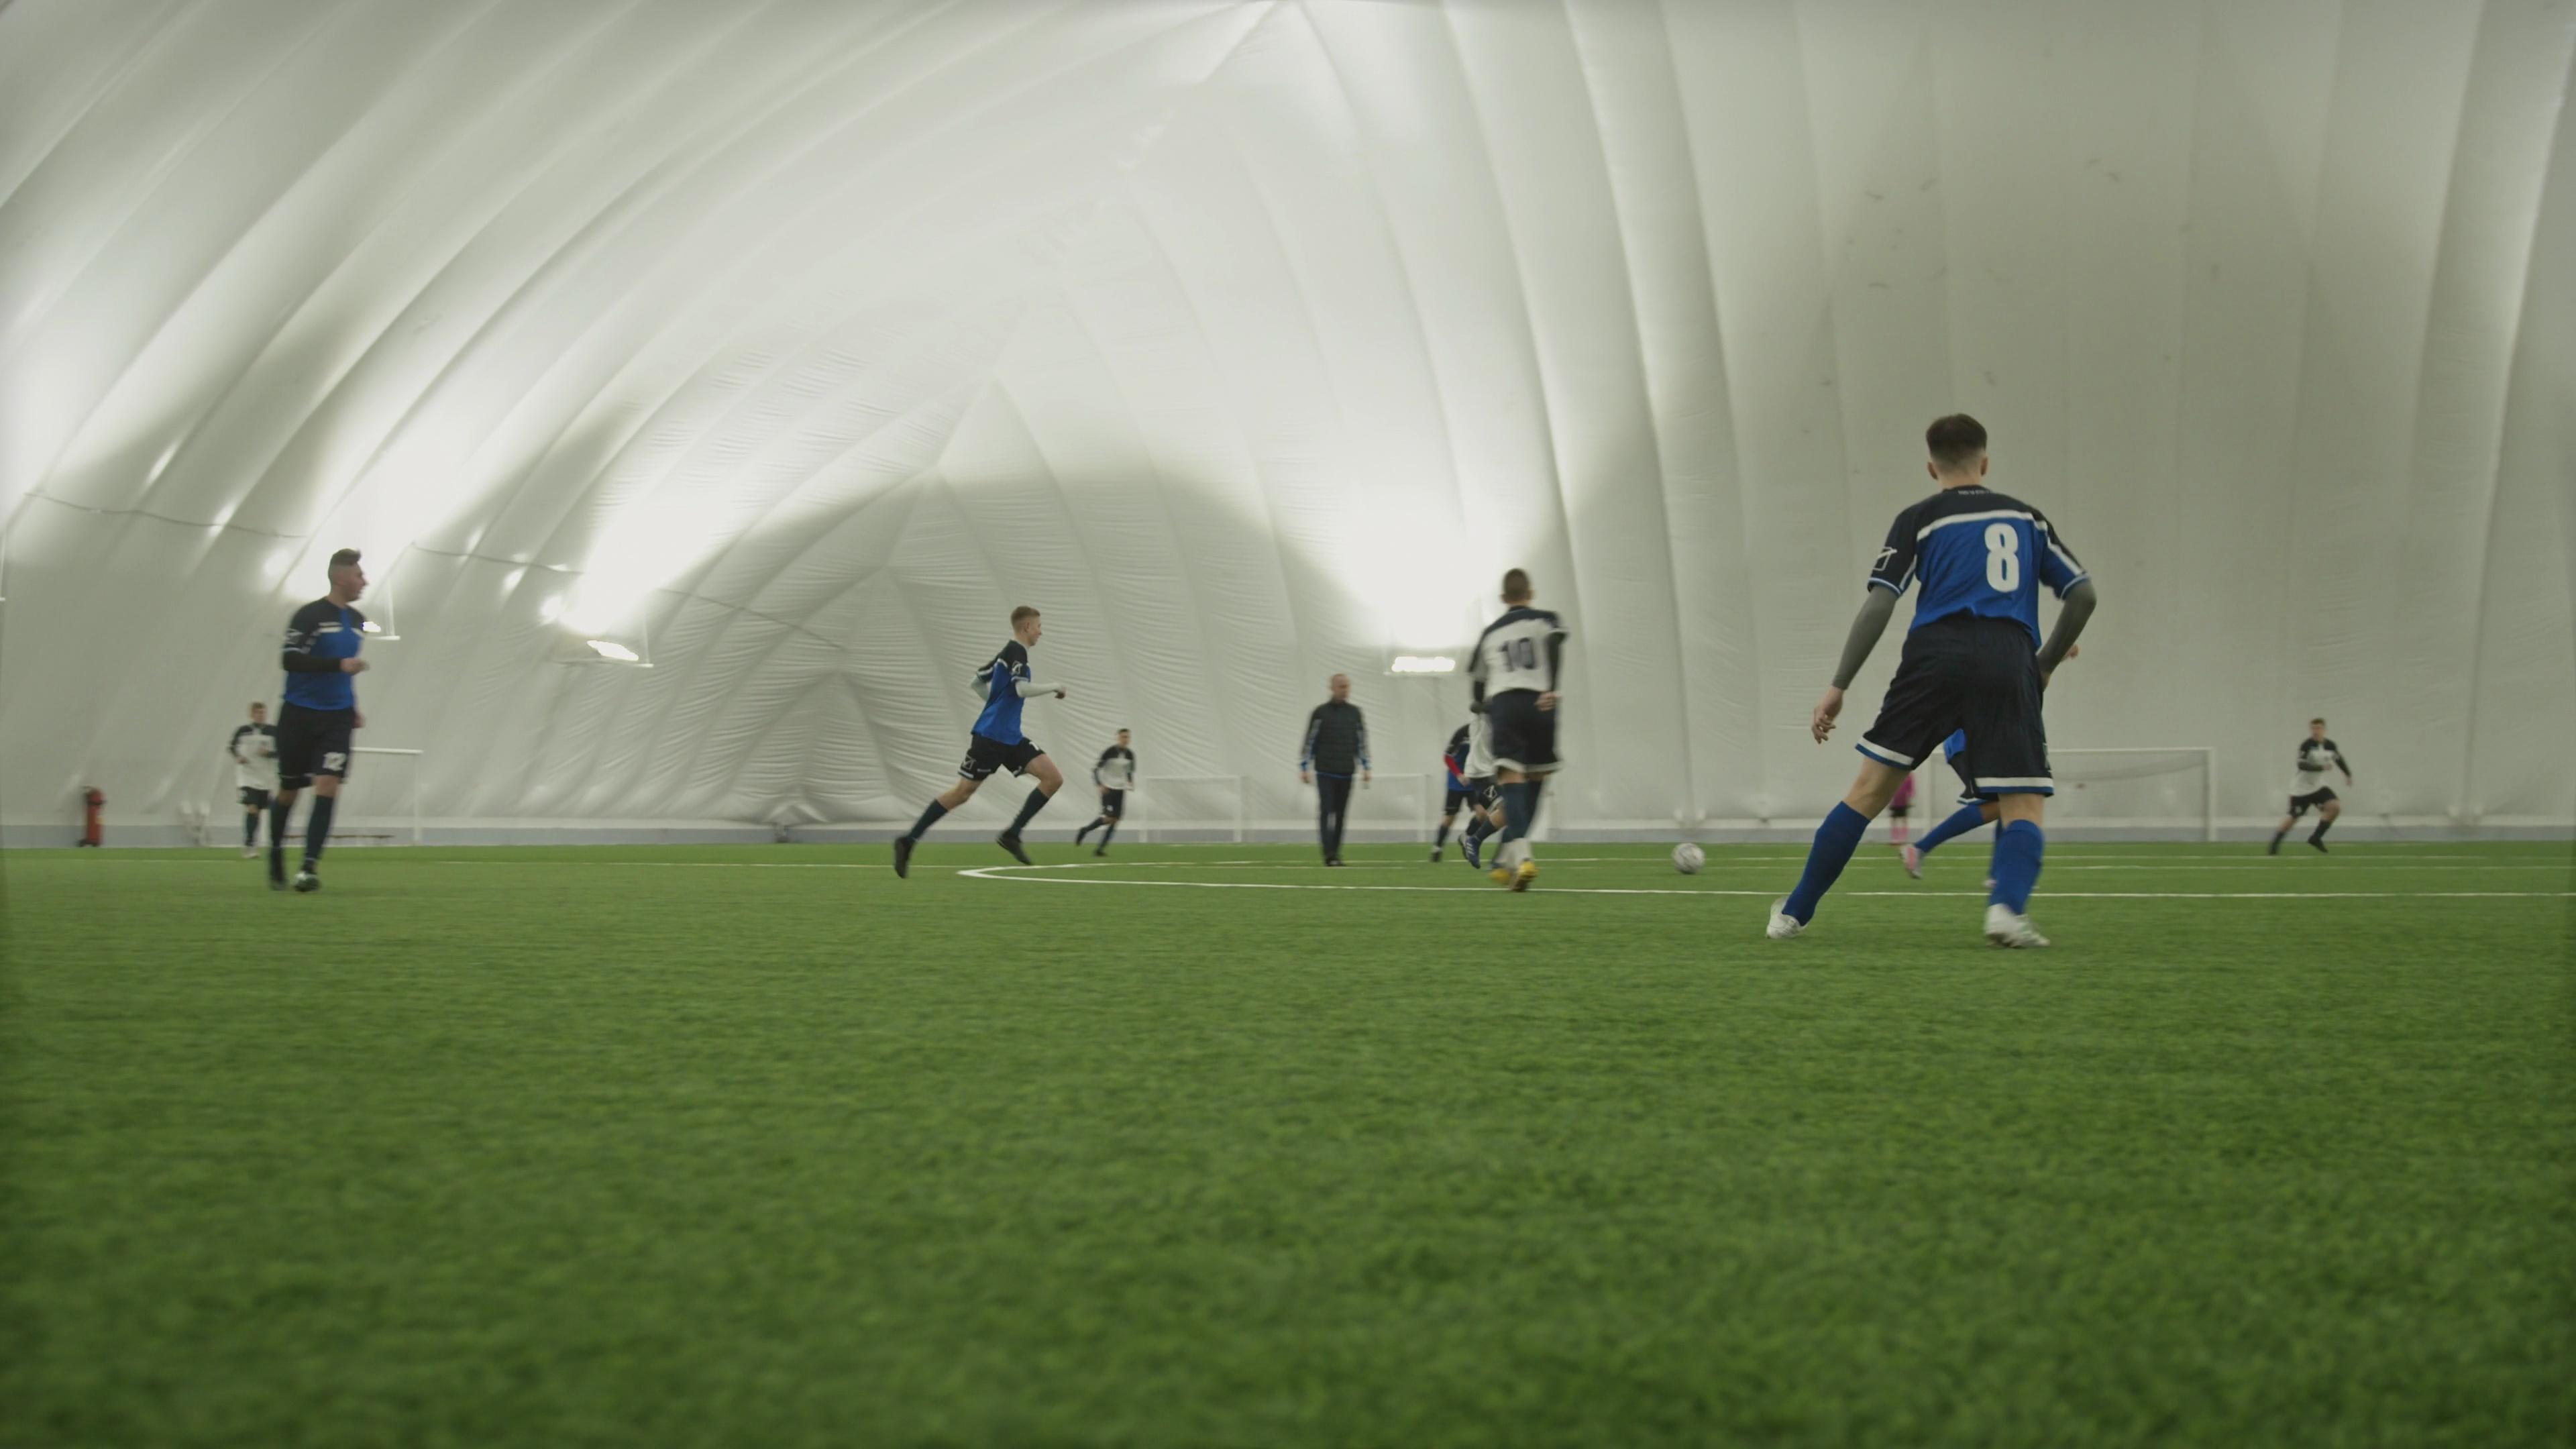other: (1299, 671, 1369, 865)
team1: (1767, 412, 2100, 950), (888, 603, 1063, 879), (264, 545, 386, 893), (1430, 718, 1497, 862)
team1gk: (1881, 761, 1916, 842)
team2: (1465, 568, 1573, 888), (2266, 711, 2351, 856), (230, 697, 280, 858), (1079, 725, 1138, 858)
